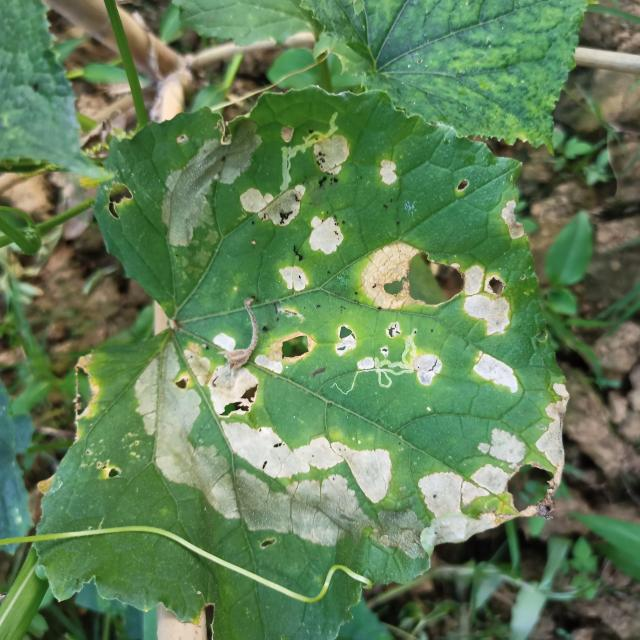disease_cucumber: (230, 120, 538, 344), (128, 330, 413, 572), (410, 333, 574, 560)
